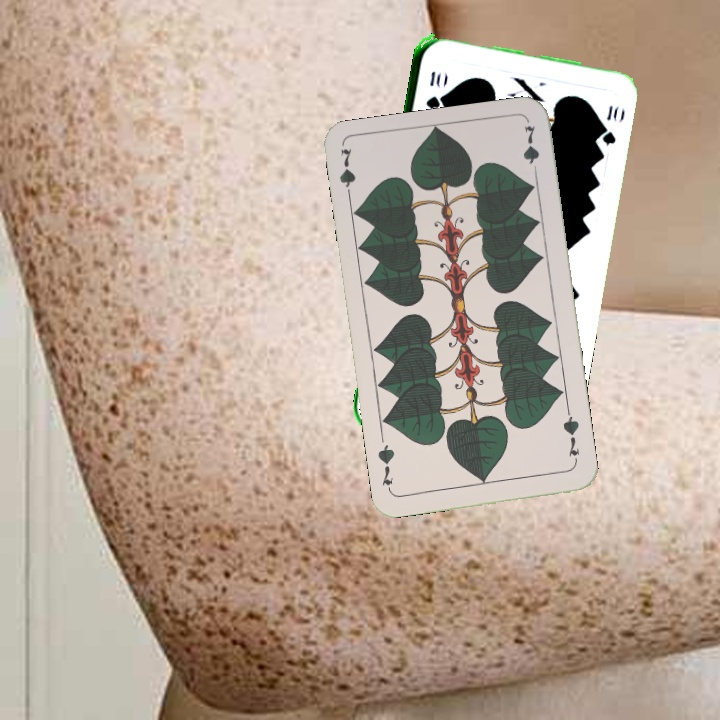G10: (422, 67, 443, 112)
G7: (559, 408, 583, 467), (335, 145, 358, 205)
